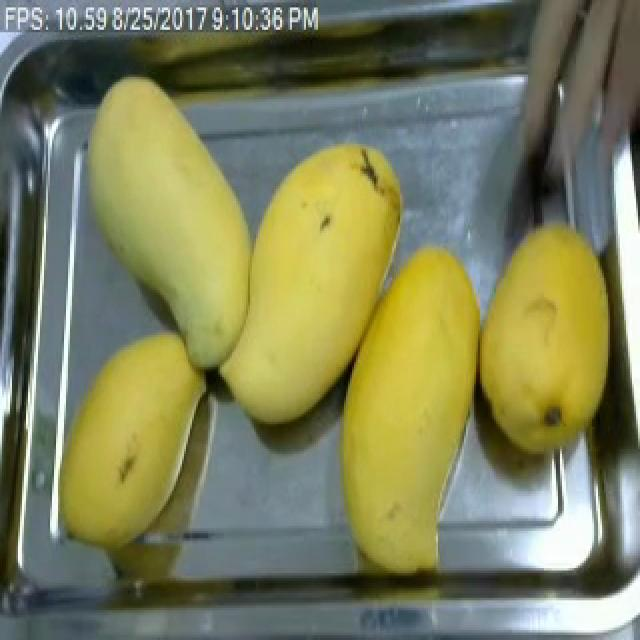fruit: (190, 129, 434, 444), (324, 231, 494, 593), (70, 67, 266, 342), (466, 213, 636, 469), (44, 318, 216, 560)
